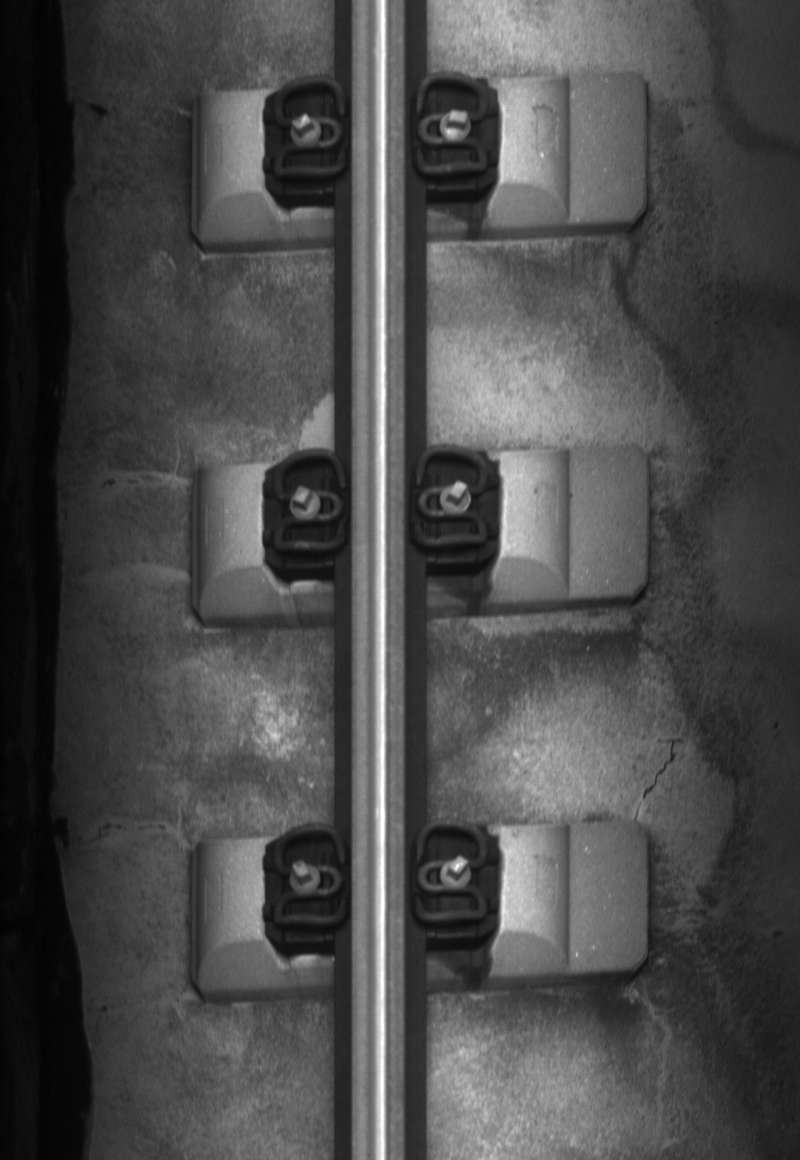l_faster: (267, 819, 351, 935), (267, 71, 352, 183), (268, 445, 351, 557)
r_faster: (406, 443, 497, 558), (411, 69, 492, 181), (411, 817, 490, 928)
